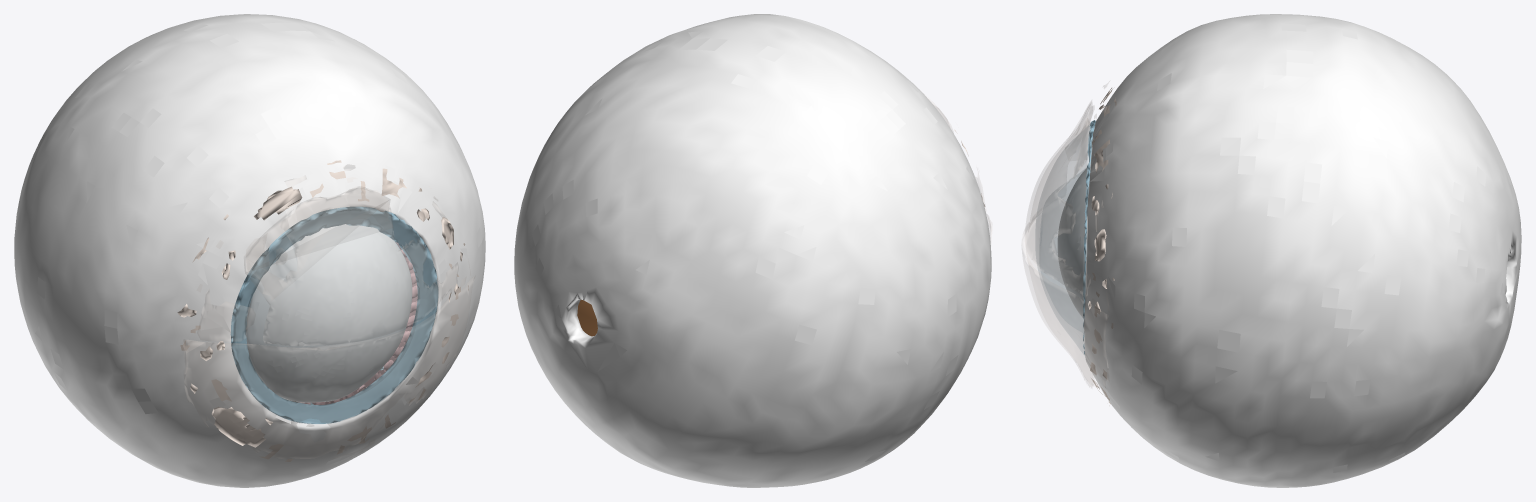
Rendered from 3d-vh-f-eye-r-80.glb.
The picture shows the model from 3 angles, left to right: view 1: azimuth 30°, elevation 25°; view 2: azimuth 150°, elevation 25°; view 3: azimuth 270°, elevation 25°; orthographic projection.
Visible parts, largest first — view 1: VH_F_sclera_R, VH_F_cornea_R, VH_F_palpebral_conjunctiva_of_right_lower_eyelid, VH_F_palpebral_conjunctiva_of_right_upper_eyelid, VH_F_aqueous_humor_R, VH_F_corneo_scleral_junction_R, VH_F_bulbar_conjunctiva_R, VH_F_ciliary_muscle_R; view 2: VH_F_sclera_R, VH_F_optic_choroid_R; view 3: VH_F_sclera_R, VH_F_cornea_R, VH_F_palpebral_conjunctiva_of_right_upper_eyelid, VH_F_palpebral_conjunctiva_of_right_lower_eyelid, VH_F_aqueous_humor_R, VH_F_bulbar_conjunctiva_R, VH_F_corneo_scleral_junction_R.
Part boxes in pixels (x1=…): VH_F_sclera_R: x1=14, y1=14, x2=485, y2=487; VH_F_cornea_R: x1=233, y1=209, x2=438, y2=424; VH_F_palpebral_conjunctiva_of_right_lower_eyelid: x1=183, y1=276, x2=474, y2=458; VH_F_palpebral_conjunctiva_of_right_upper_eyelid: x1=197, y1=165, x2=470, y2=345; VH_F_aqueous_humor_R: x1=246, y1=224, x2=412, y2=402; VH_F_corneo_scleral_junction_R: x1=230, y1=206, x2=438, y2=423; VH_F_bulbar_conjunctiva_R: x1=177, y1=160, x2=468, y2=461; VH_F_ciliary_muscle_R: x1=302, y1=242, x2=417, y2=404; VH_F_sclera_R: x1=514, y1=14, x2=991, y2=487; VH_F_optic_choroid_R: x1=577, y1=299, x2=597, y2=336; VH_F_sclera_R: x1=1084, y1=14, x2=1521, y2=487; VH_F_cornea_R: x1=1036, y1=122, x2=1093, y2=354; VH_F_palpebral_conjunctiva_of_right_upper_eyelid: x1=1025, y1=81, x2=1109, y2=311; VH_F_palpebral_conjunctiva_of_right_lower_eyelid: x1=1022, y1=212, x2=1108, y2=387; VH_F_aqueous_humor_R: x1=1057, y1=168, x2=1087, y2=318; VH_F_bulbar_conjunctiva_R: x1=1088, y1=88, x2=1116, y2=405; VH_F_corneo_scleral_junction_R: x1=1083, y1=120, x2=1095, y2=354.
Bounding box in the file's own units: 0.0245 × 0.0244 × 0.0257.
